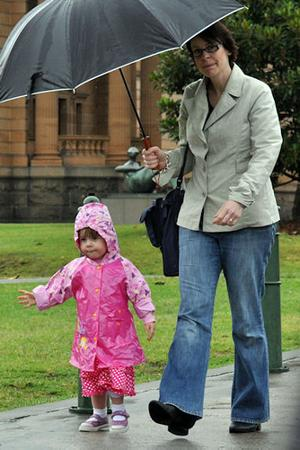person: (142, 22, 283, 437)
